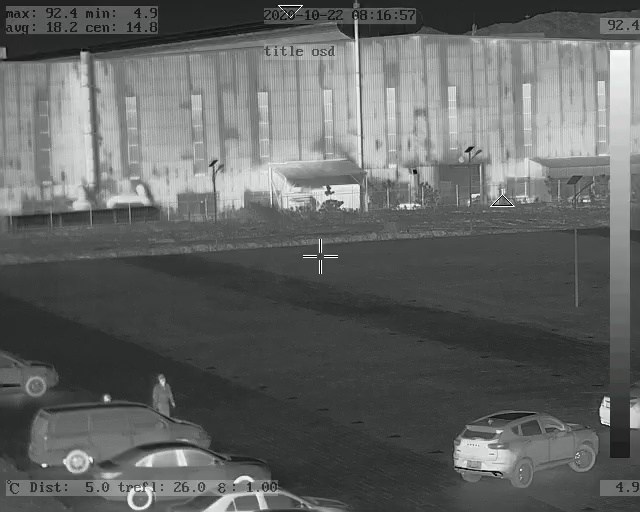person: (149, 371, 176, 423)
vehicle: (80, 439, 284, 505), (28, 398, 211, 469), (453, 409, 603, 488), (169, 482, 340, 512), (1, 350, 58, 402)
